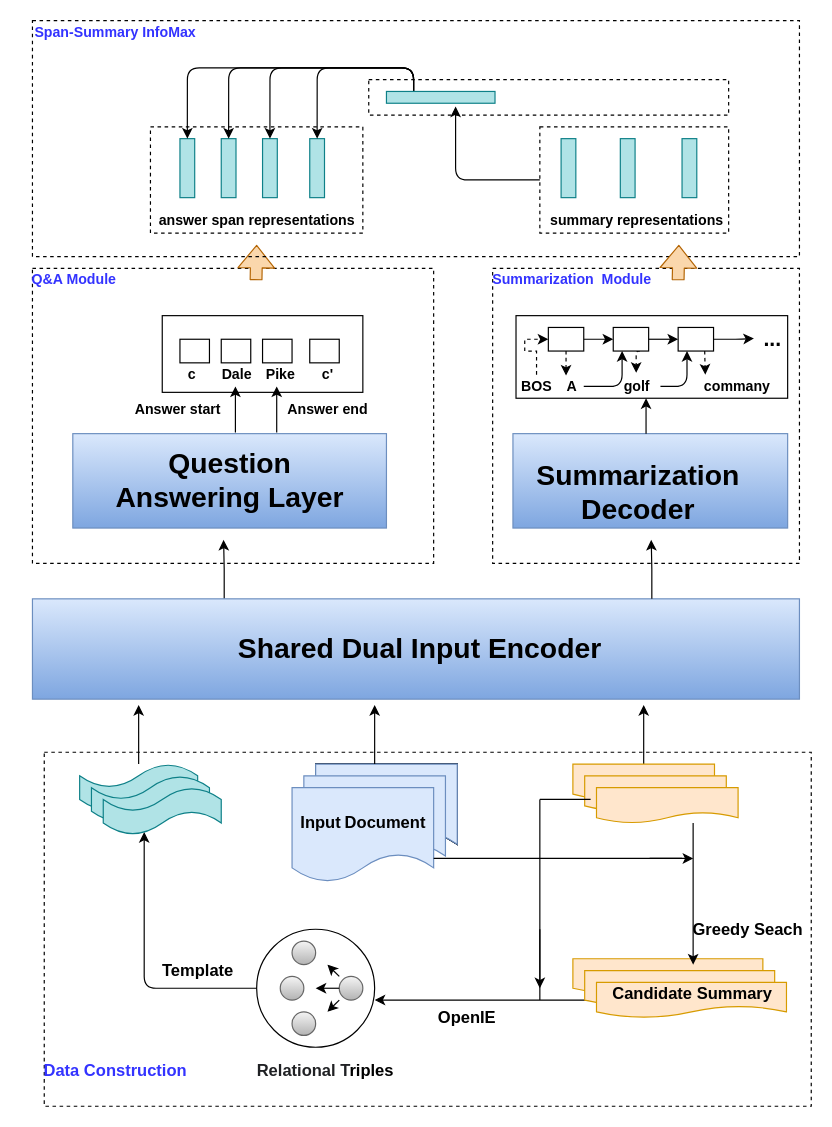
Some shapes in this 832 by 1127 pixel diagram are drawn without their labels. The centre of each missing label's shape, as x and y in pixels:
"Query" goes at pixel 161 810.
"Summarized summary vector" goes at pixel 548 96.
"Target Summary" goes at pixel 666 804.
